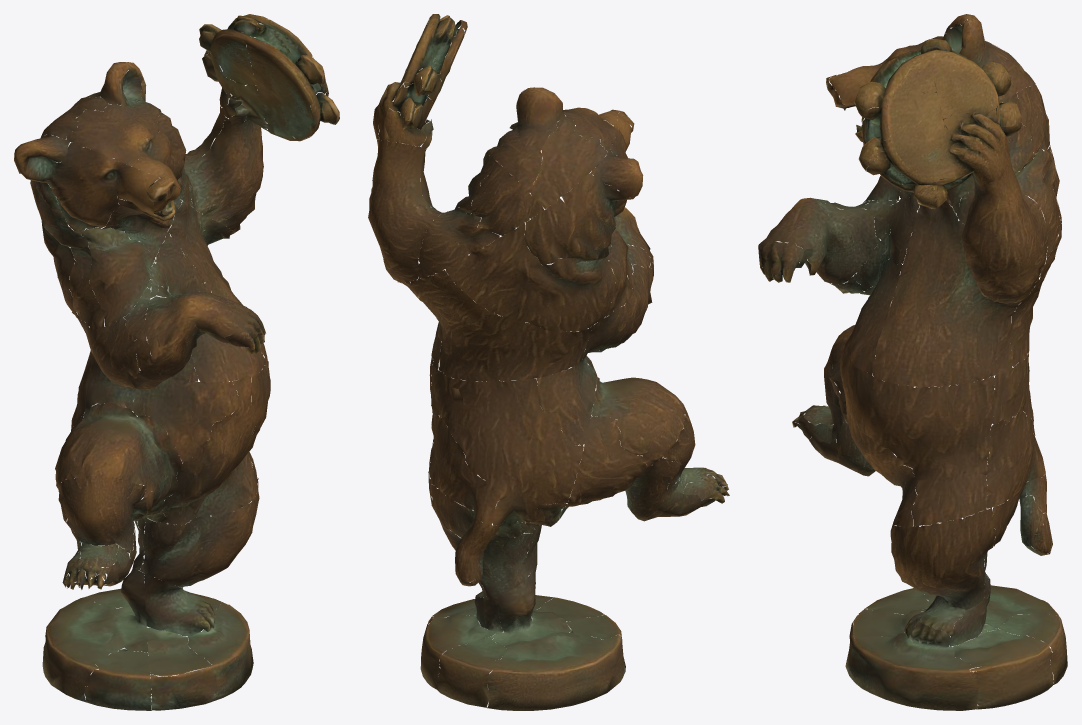
Rendered from h_clock_bear.glb.
3 views of the same model, side by side, from view 1: azimuth 30°, elevation 25°; view 2: azimuth 150°, elevation 25°; view 3: azimuth 270°, elevation 25° (orthographic). The views are drawn at different scales.
Visible parts, largest first — view 1: tripo_node_2ba5acbd-2966-4c39-9895-f21c71d1fd41; view 2: tripo_node_2ba5acbd-2966-4c39-9895-f21c71d1fd41; view 3: tripo_node_2ba5acbd-2966-4c39-9895-f21c71d1fd41.
Boxes of the visible parts, x1,y1,x2,y2 form: tripo_node_2ba5acbd-2966-4c39-9895-f21c71d1fd41: (14, 14, 339, 710); tripo_node_2ba5acbd-2966-4c39-9895-f21c71d1fd41: (368, 14, 729, 710); tripo_node_2ba5acbd-2966-4c39-9895-f21c71d1fd41: (758, 14, 1067, 710).
Size of the model in its own units: 0.4906 by 0.9995 by 0.4186.
Materials: 1 (1 with a texture image).
